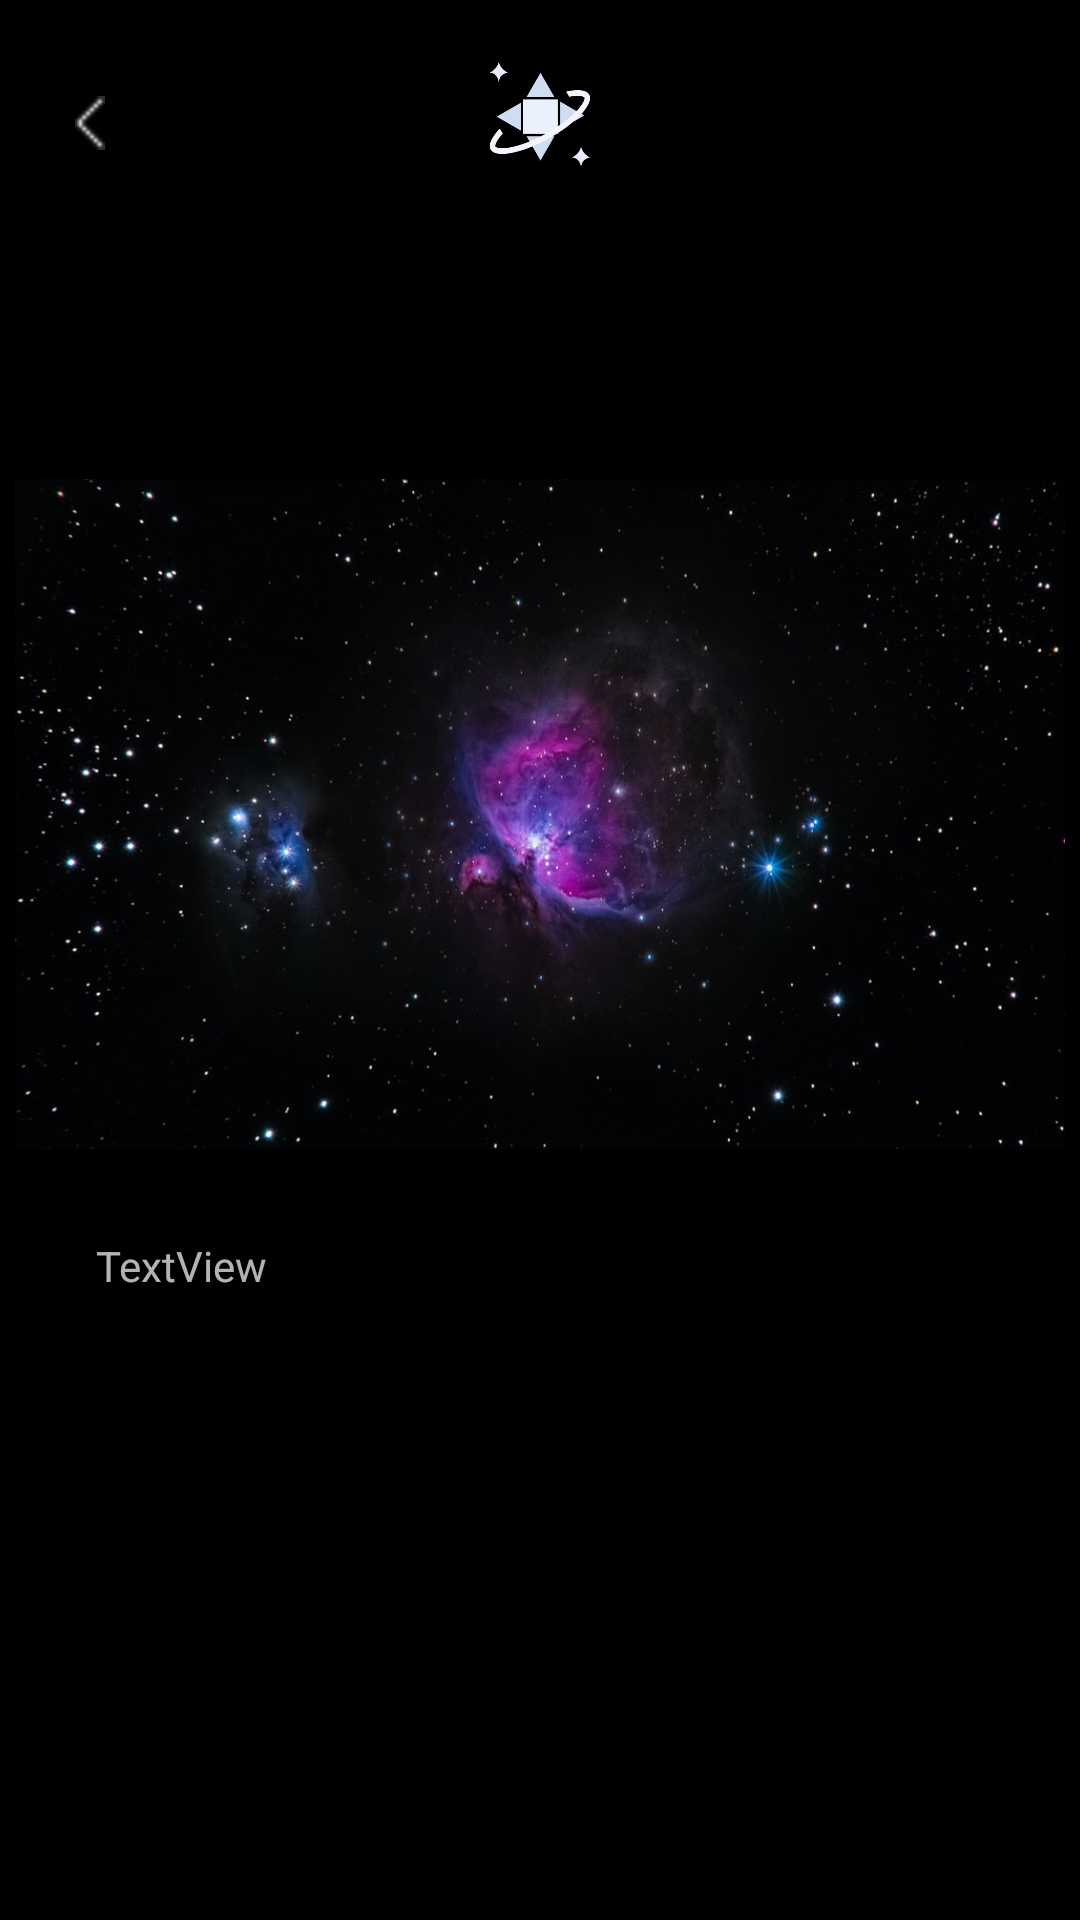

Named icons in this screenshot (1080 x 1920) and their centers, [x,y]:
back: [90,123]
